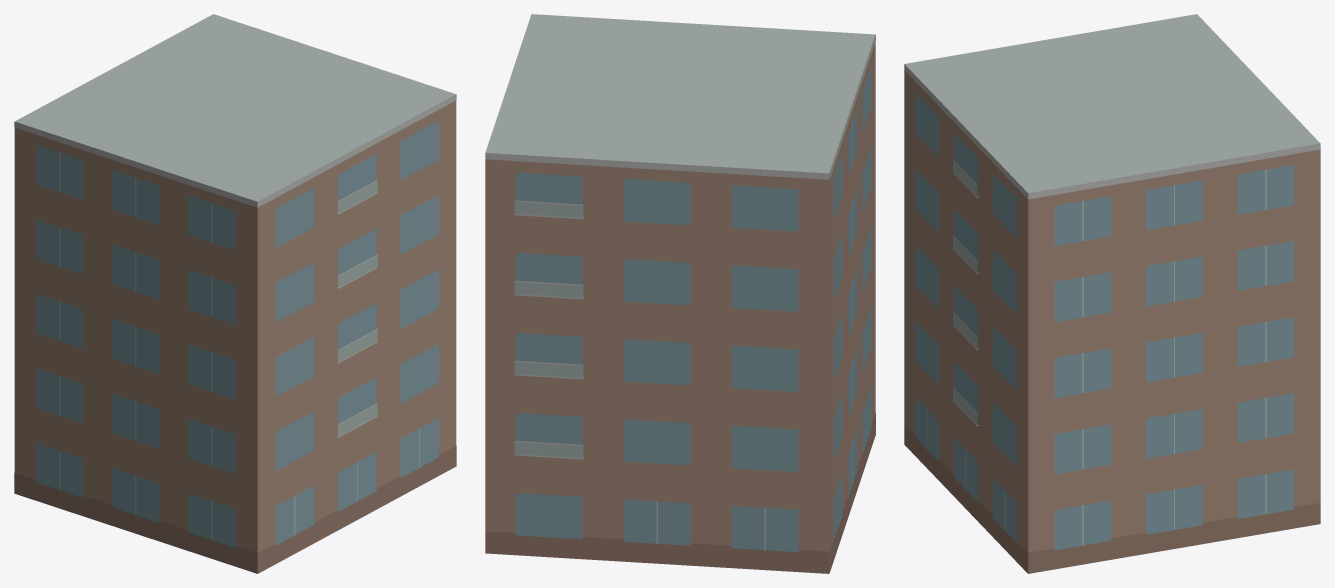
File: residential-c5ecbe5b-0b46-427f-89a4-653571bf43fc.glb
3 views of the same model, side by side, from view 1: azimuth 30°, elevation 25°; view 2: azimuth 150°, elevation 25°; view 3: azimuth 270°, elevation 25° (orthographic). The views are drawn at different scales.
Visible parts, largest first — view 1: residential-c5ecbe5b-0b46-427f-89a4-653571bf43fc.tmp; view 2: residential-c5ecbe5b-0b46-427f-89a4-653571bf43fc.tmp; view 3: residential-c5ecbe5b-0b46-427f-89a4-653571bf43fc.tmp.
Boxes of the visible parts, x1,y1,x2,y2 form: residential-c5ecbe5b-0b46-427f-89a4-653571bf43fc.tmp: (14,14,456,573); residential-c5ecbe5b-0b46-427f-89a4-653571bf43fc.tmp: (485,14,875,573); residential-c5ecbe5b-0b46-427f-89a4-653571bf43fc.tmp: (904,14,1320,573).
Size of the model in its own units: 15.42 by 15.25 by 15.13.
